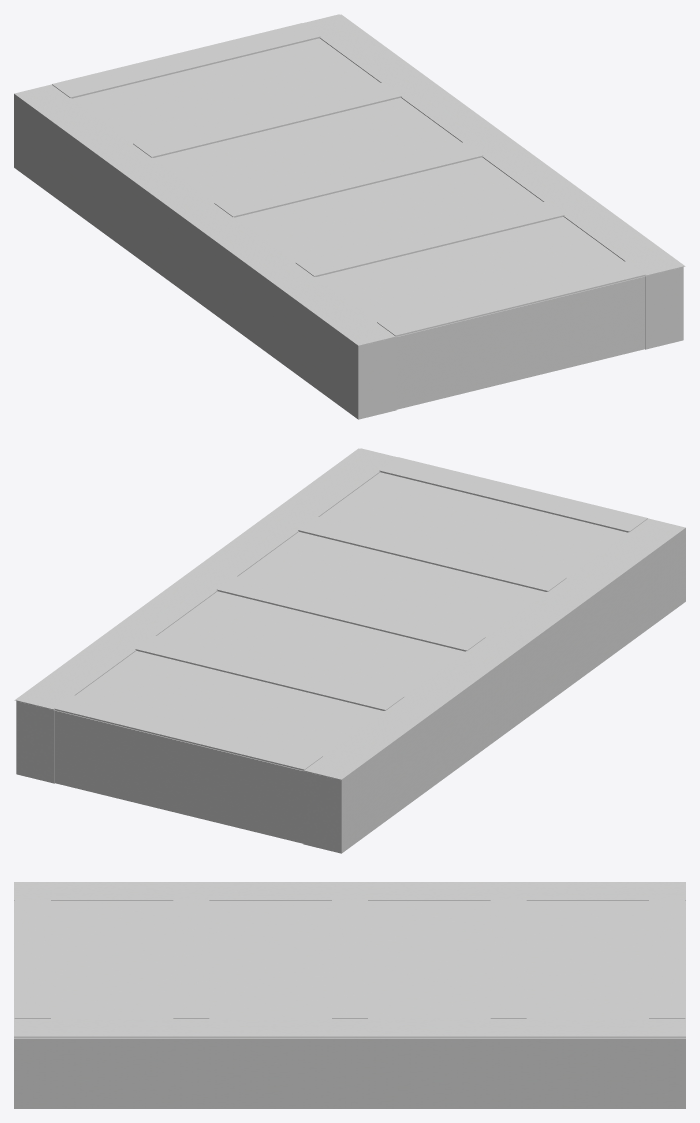
The model's file is tavan.fbx.
The picture shows the model from 3 angles, top to bottom: view 1: azimuth 30°, elevation 25°; view 2: azimuth 150°, elevation 25°; view 3: azimuth 270°, elevation 25°; orthographic projection. The views are drawn at different scales.
Visible parts, largest first — view 1: Cube.002; view 2: Cube.002; view 3: Cube.002.
Boxes of the visible parts, left/top/right/bottom form: Cube.002: left=14, top=14, right=685, bottom=419; Cube.002: left=14, top=448, right=685, bottom=853; Cube.002: left=14, top=882, right=685, bottom=1108.
Size of the model in its own units: 1045 by 228 by 1904.
